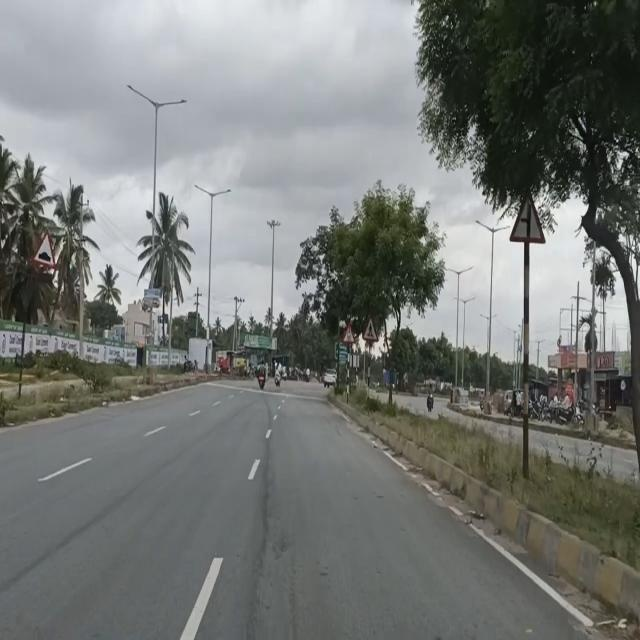bien_nguy_hiem: (509, 182, 548, 247), (362, 313, 379, 343), (343, 320, 355, 346)
